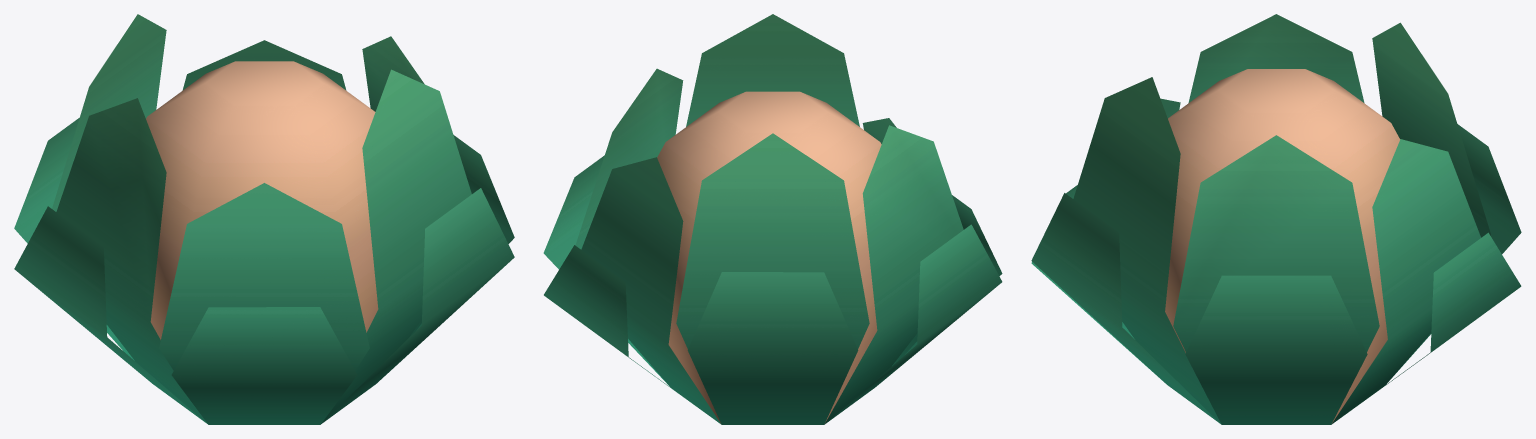
The model's file is cauliflower.glb.
3 renders of one model, left to right at view 1: azimuth 30°, elevation 25°; view 2: azimuth 150°, elevation 25°; view 3: azimuth 270°, elevation 25°, orthographic. The views are drawn at different scales.
Visible parts, largest first — view 1: cauliflower; view 2: cauliflower; view 3: cauliflower.
Boxes of the visible parts, left/top/right/bottom form: cauliflower: left=14, top=14, right=514, bottom=424; cauliflower: left=543, top=14, right=1002, bottom=424; cauliflower: left=1031, top=14, right=1521, bottom=424.
Bounding box in the file's own units: 0.2098 × 0.17 × 0.2232.
Materials: 1 (1 with a texture image).
